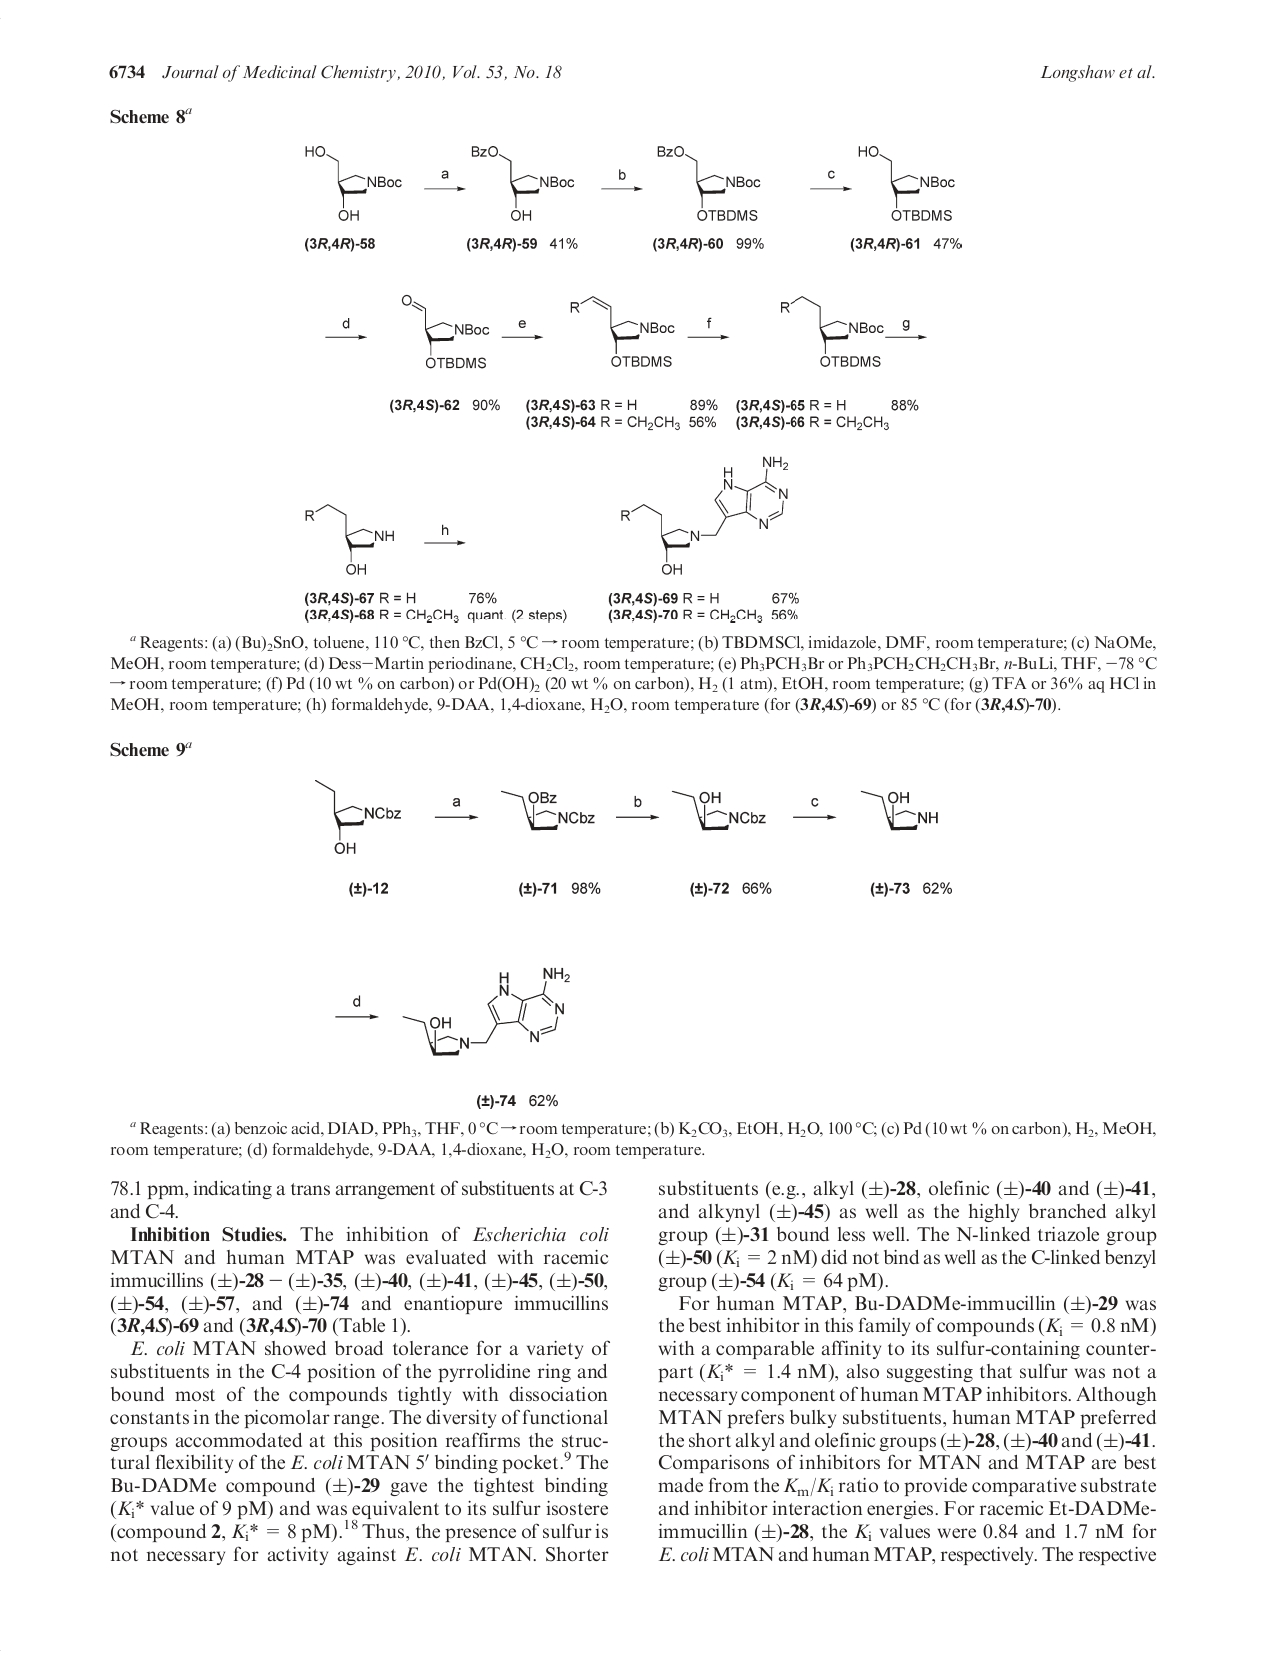exist_molecular: (620, 453, 793, 576), (402, 964, 572, 1059), (656, 144, 761, 223), (469, 144, 576, 221), (569, 293, 676, 370), (778, 294, 883, 370), (856, 145, 956, 225), (302, 142, 402, 221), (399, 293, 491, 370), (313, 777, 402, 854), (303, 503, 396, 576), (499, 786, 594, 833), (670, 787, 767, 833), (862, 790, 939, 833)
